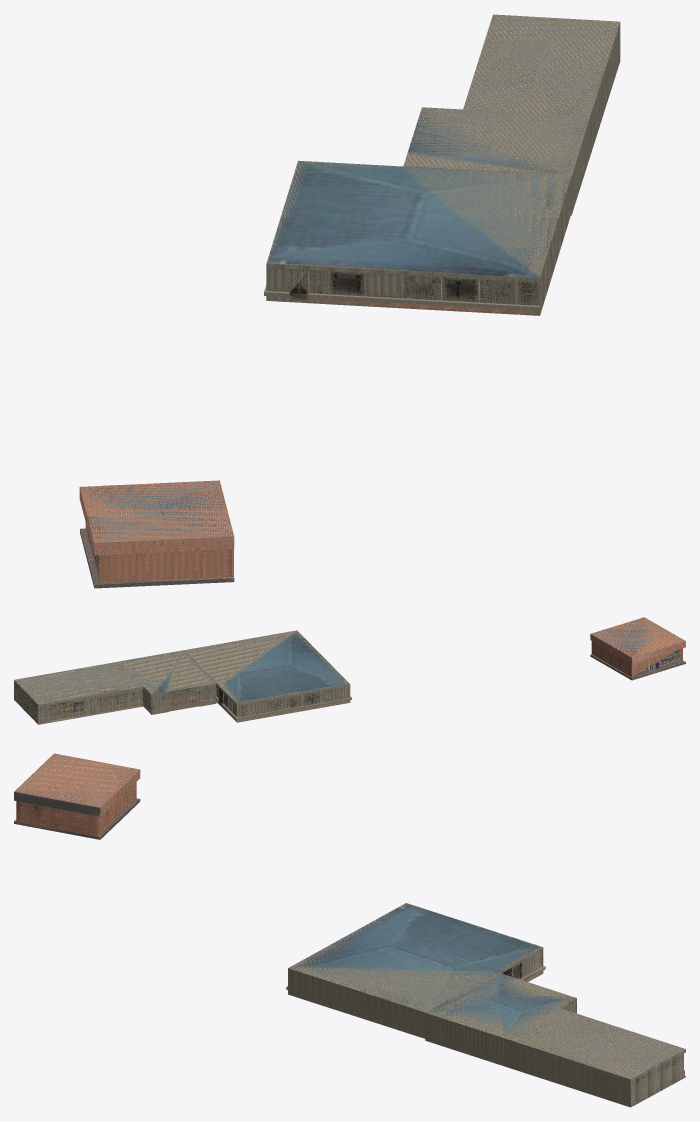
File: F2700017-學生餐廳+交誼廳.fbx
3 renders of one model, top to bottom at view 1: azimuth 30°, elevation 25°; view 2: azimuth 150°, elevation 25°; view 3: azimuth 270°, elevation 25°, orthographic. The views are drawn at different scales.
Parts seen in each view (by area): view 1: Group1, start3_1; view 2: Group1, start3_1; view 3: Group1, start3_1.
Boxes of the visible parts, x1=… form: Group1: x1=264, y1=14, x2=620, y2=315; start3_1: x1=79, y1=480, x2=234, y2=588; Group1: x1=14, y1=630, x2=351, y2=724; start3_1: x1=590, y1=617, x2=685, y2=680; Group1: x1=286, y1=903, x2=685, y2=1107; start3_1: x1=14, y1=753, x2=140, y2=839.
Size of the model in its own units: 105 by 4.95 by 92.89.
